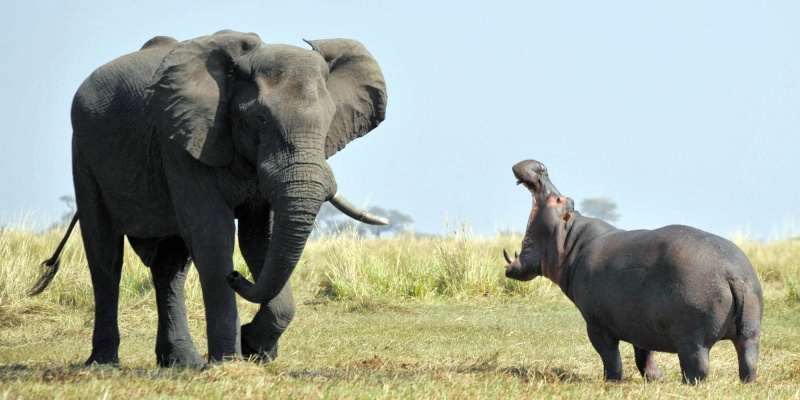hipopotamo: (501, 155, 770, 383)
